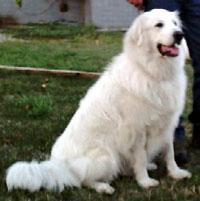Great_Pyrenees: (0, 6, 194, 199)
